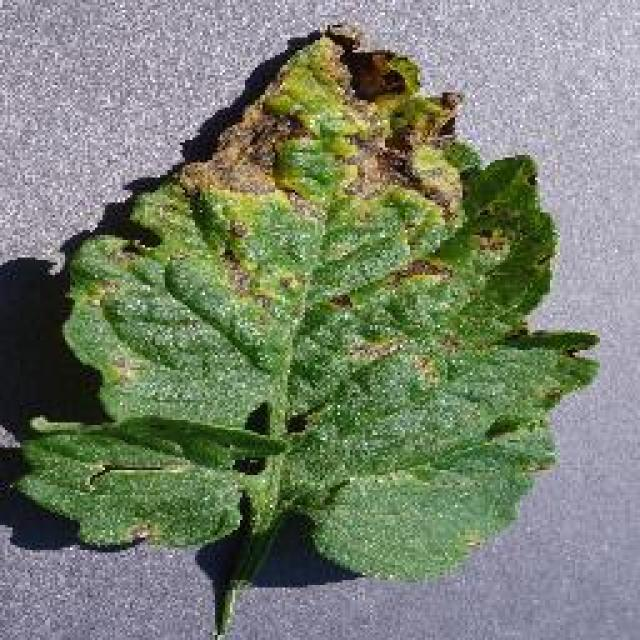Tomato target spot leaf: (18, 21, 602, 586)
